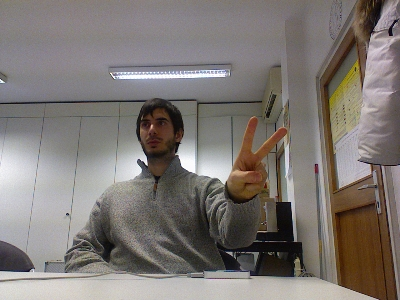剪刀: (224, 111, 289, 202)
